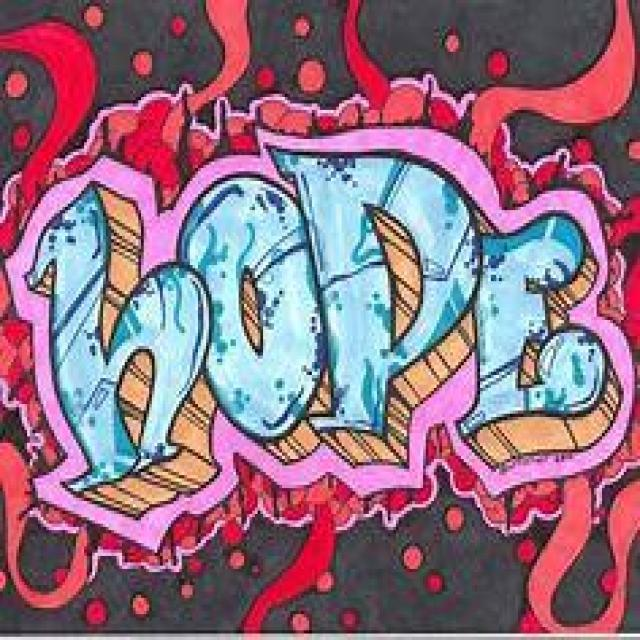nonspitting: (2, 120, 636, 558)
